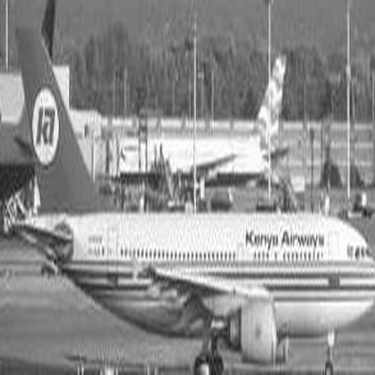airplane: (15, 48, 361, 351)
